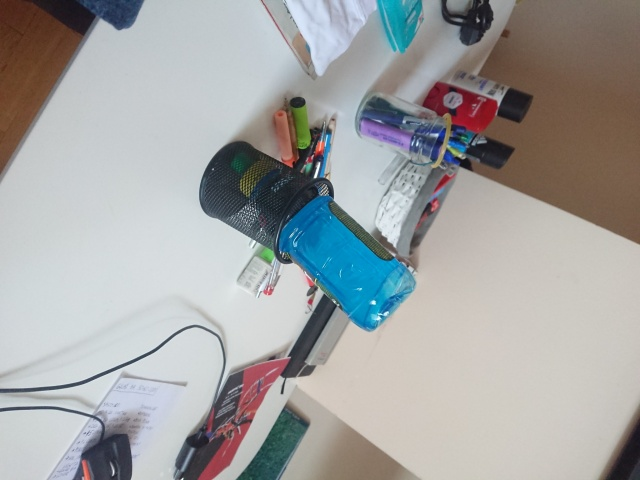Vindi Iso Sport Forest Strawberries 500mL: (228, 148, 418, 333)
